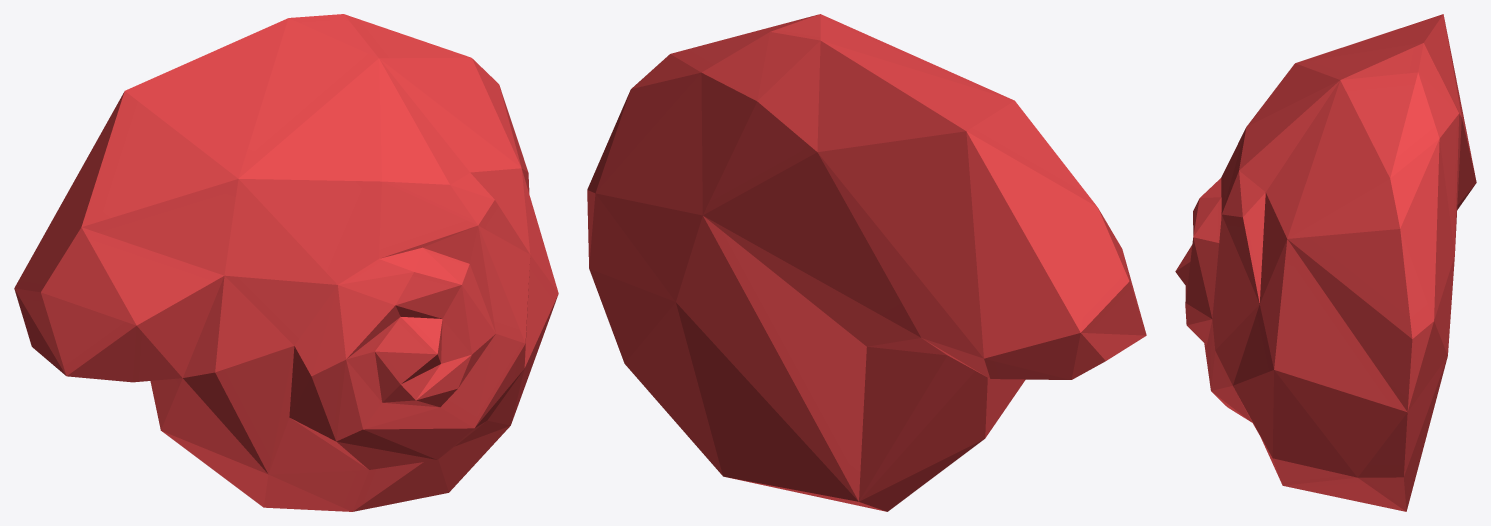
Rendered from Shell_02.fbx.
3 renders of one model, left to right at view 1: azimuth 30°, elevation 25°; view 2: azimuth 150°, elevation 25°; view 3: azimuth 270°, elevation 25°, orthographic. The views are drawn at different scales.
Parts seen in each view (by area): view 1: Shell_02; view 2: Shell_02; view 3: Shell_02.
Part boxes in pixels (x1,y1,x2,y2): Shell_02: [14, 14, 558, 511]; Shell_02: [587, 14, 1146, 511]; Shell_02: [1175, 14, 1476, 511].
Size of the model in its own units: 191 by 166 by 106.
